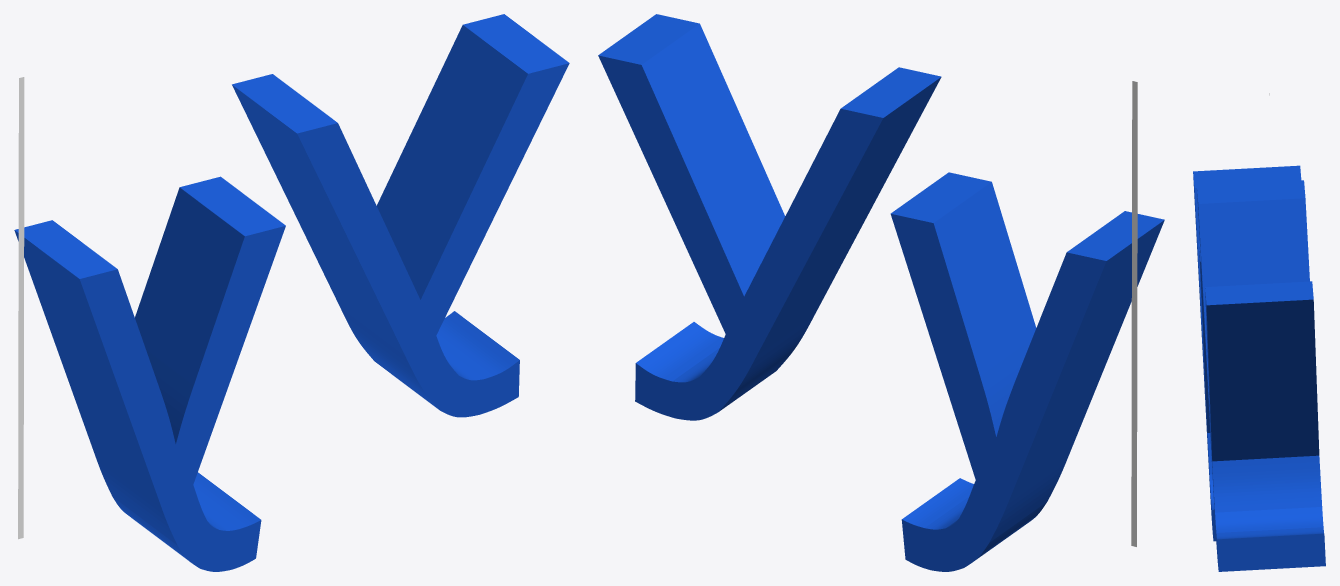
3 renders of one model, left to right at view 1: azimuth 30°, elevation 25°; view 2: azimuth 150°, elevation 25°; view 3: azimuth 270°, elevation 25°, orthographic. The views are drawn at different scales.
Visible parts, largest first — view 1: Mesh_0.025, Плоскость; view 2: Mesh_0.025, Плоскость; view 3: Mesh_0.025.
Part boxes in pixels (<box>): Mesh_0.025: <box>14,14,569,571</box>; Плоскость: <box>18,77,24,539</box>; Mesh_0.025: <box>598,14,1164,571</box>; Плоскость: <box>1131,81,1137,546</box>; Mesh_0.025: <box>1193,165,1325,571</box>.
Size of the model in its own units: 10.95 by 10.4 by 2.82.
